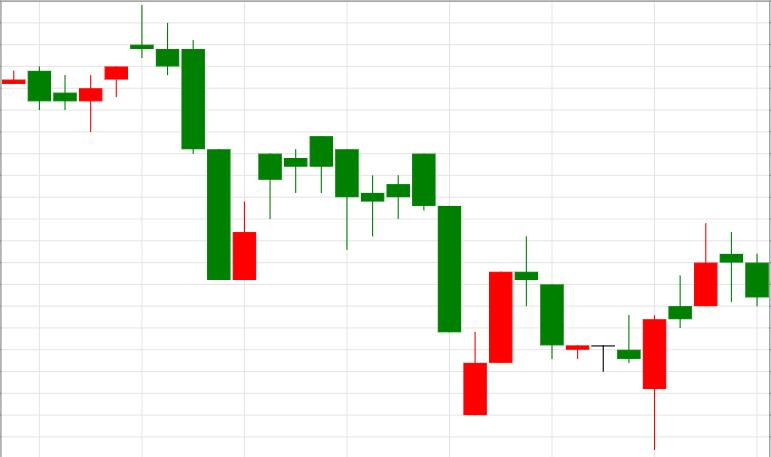evening_star_fall: (616, 223, 768, 450)
